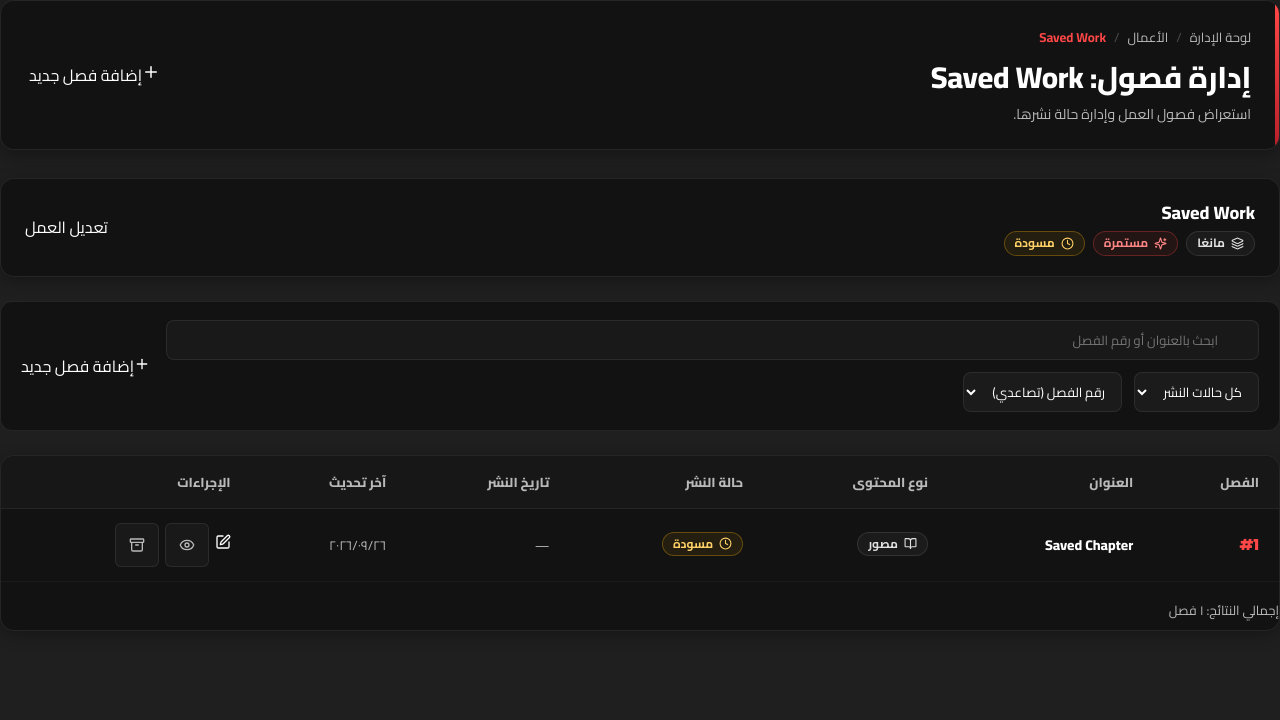
persisted Chapter list › does not report a failed publication as confirmed
Click the button named "نشر الفصل 1".
click(187, 545)  # box [165, 523, 209, 567]
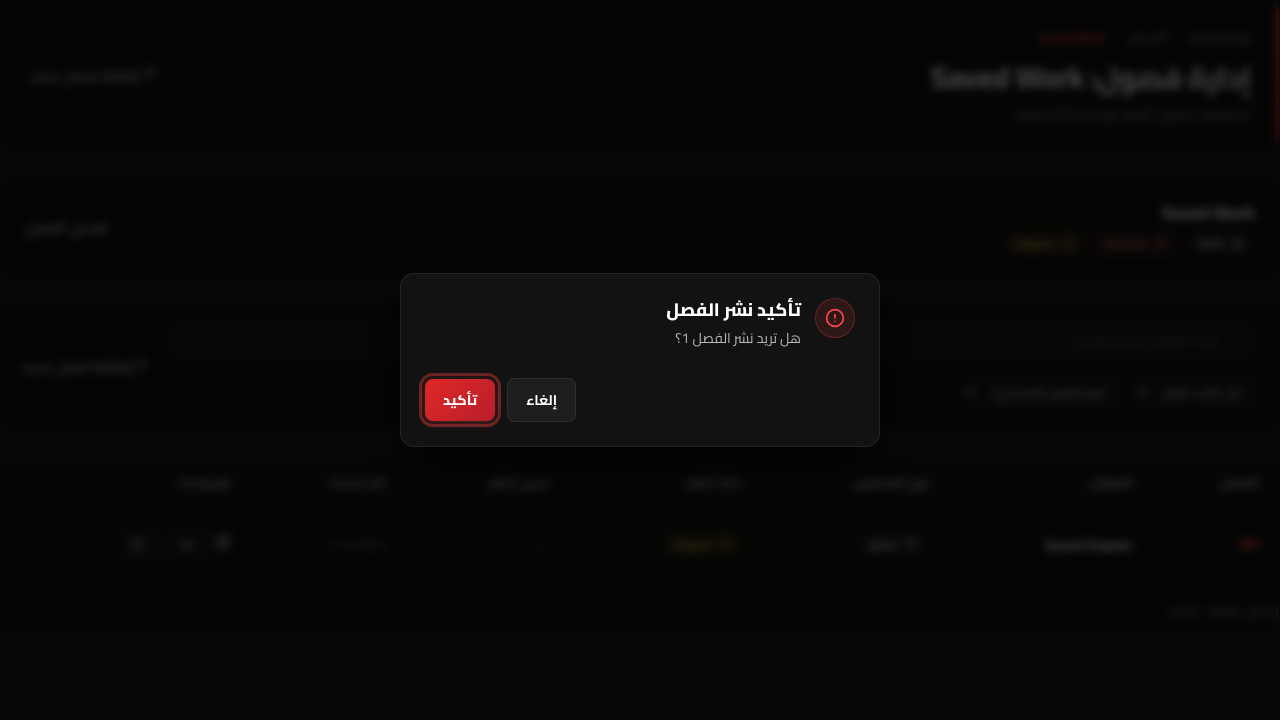
Click the button "تأكيد".
click(460, 400)  # box [425, 379, 495, 421]
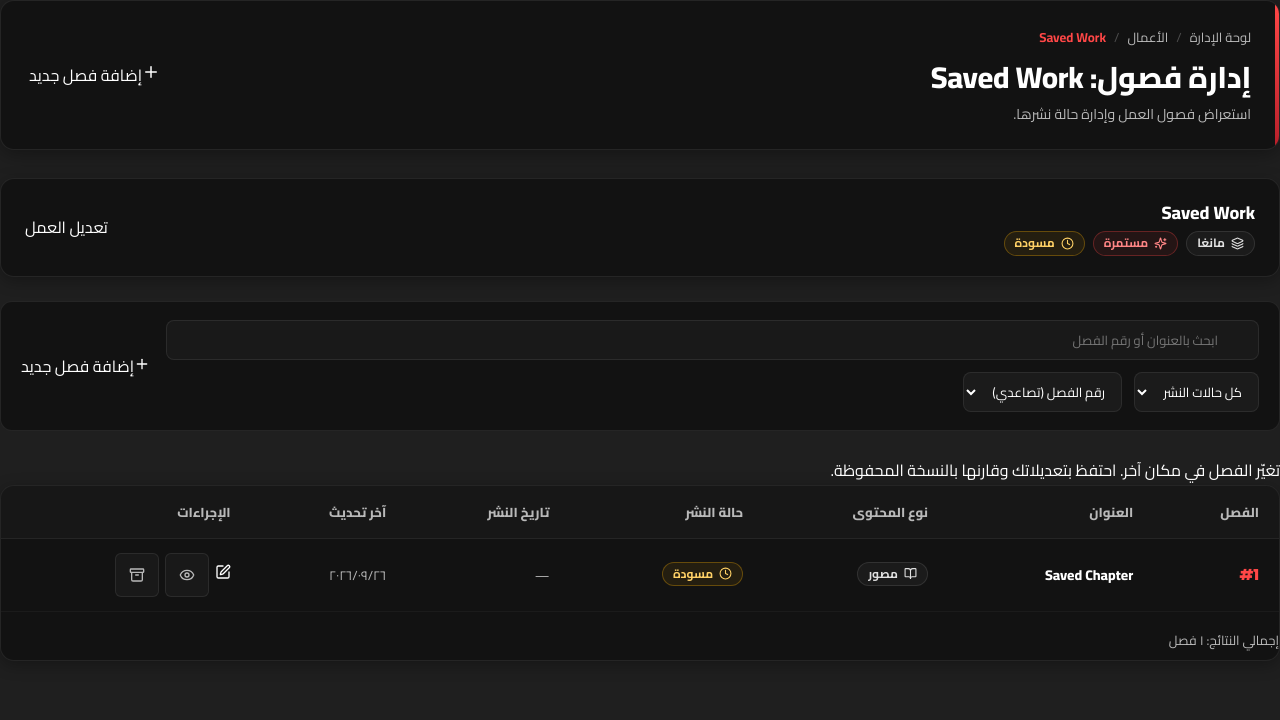
Check: the message shows "تغيّر الفصل", box [830, 455, 1279, 485]
